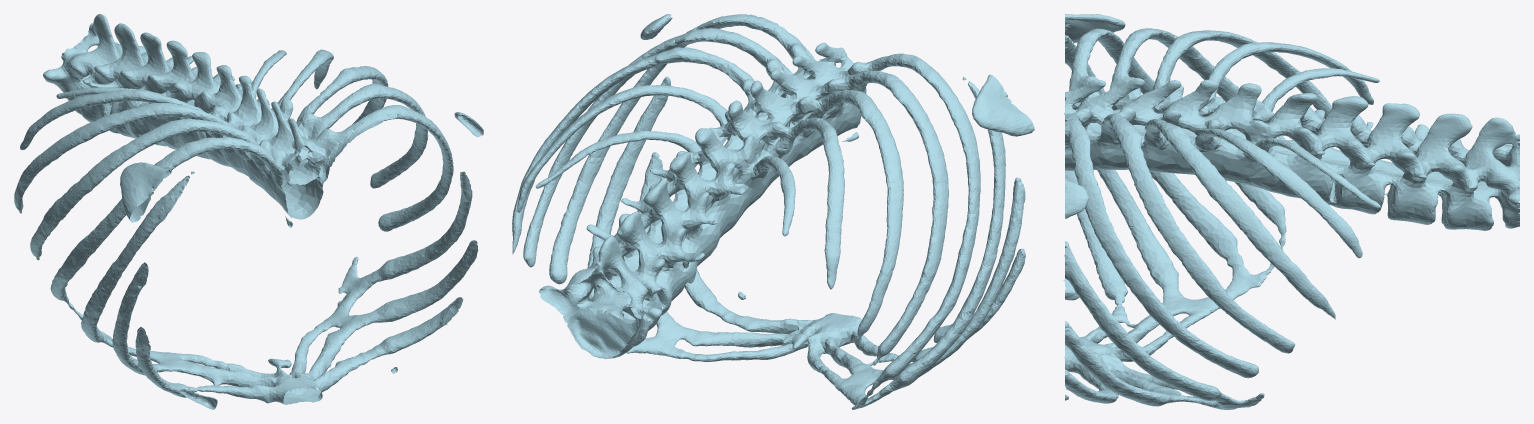
The model's file is bone.obj.
3 views of the same model, side by side, from view 1: azimuth 30°, elevation 25°; view 2: azimuth 150°, elevation 25°; view 3: azimuth 270°, elevation 25° (orthographic). The views are drawn at different scales.
Parts seen in each view (by area): view 1: grp1; view 2: grp1; view 3: grp1.
Part boxes in pixels (box(x1,y1,x2,y2)): grp1: box(14, 14, 483, 409); grp1: box(512, 14, 1034, 409); grp1: box(1063, 14, 1519, 409).
Size of the model in its own units: 263 by 195 by 273.
